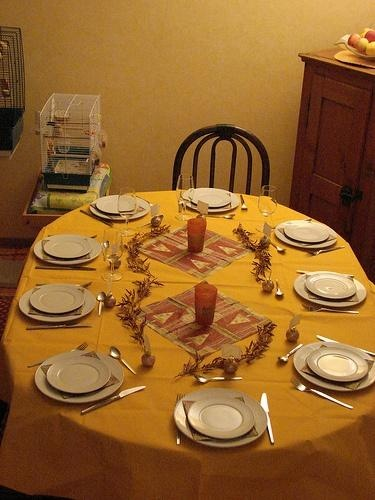chair: (172, 122, 274, 196)
diningtable: (5, 189, 375, 500)
